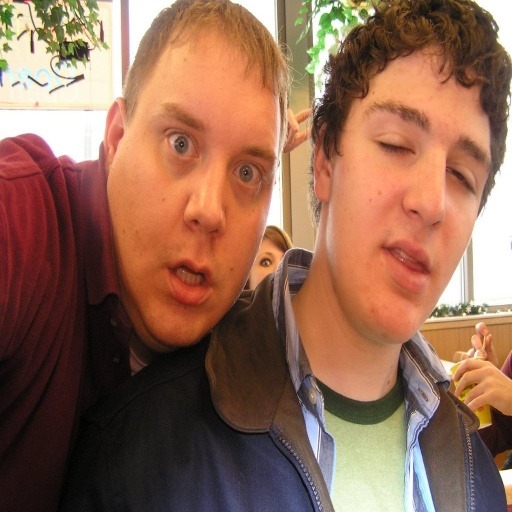hand: (454, 336, 506, 431), (461, 320, 497, 370), (282, 106, 315, 153)
